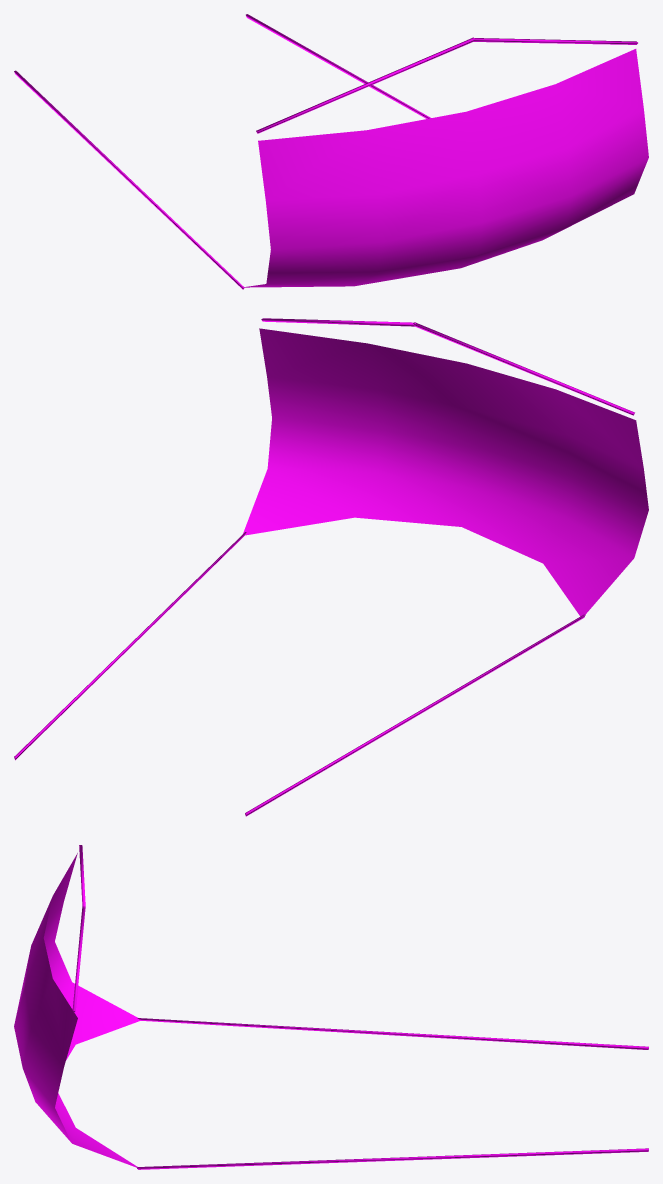
Rendered from rome_trireme_foresail.glb.
3 renders of one model, top to bottom at view 1: azimuth 30°, elevation 25°; view 2: azimuth 150°, elevation 25°; view 3: azimuth 270°, elevation 25°, orthographic. The views are drawn at different scales.
Parts seen in each view (by area): view 1: Circle_000-mesh; view 2: Circle_000-mesh; view 3: Circle_000-mesh.
Part boxes in pixels (<box>): Circle_000-mesh: <box>14,14,648,289</box>; Circle_000-mesh: <box>14,318,648,816</box>; Circle_000-mesh: <box>14,845,648,1169</box>.
Size of the model in its own units: 8.83 by 5.14 by 14.27.
